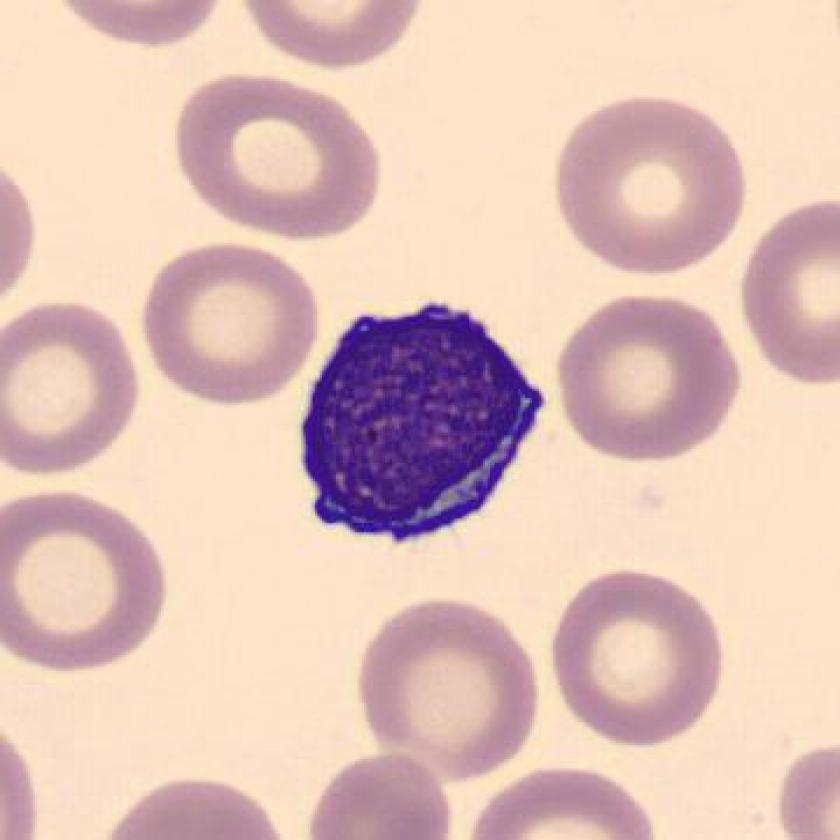lymphocyte: (285, 299, 558, 567)
